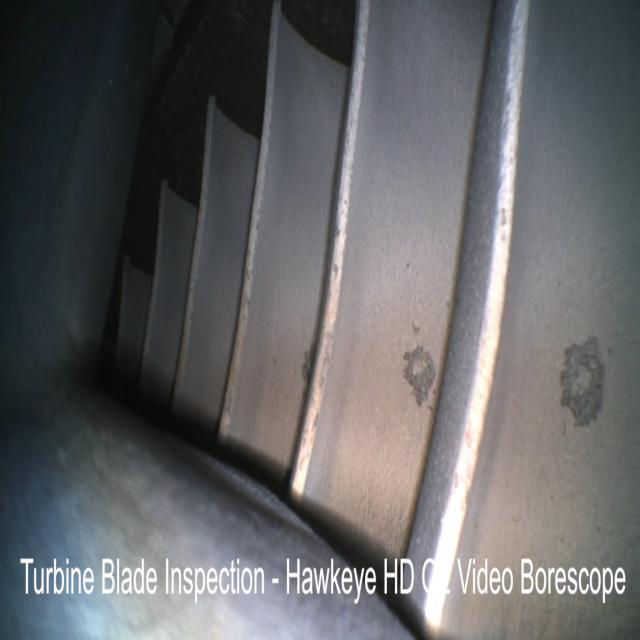burn: (563, 339, 604, 425), (403, 346, 436, 406), (300, 347, 318, 381)
turbine_blade: (437, 1, 637, 556), (298, 3, 493, 553), (223, 19, 349, 485), (171, 97, 257, 444)
